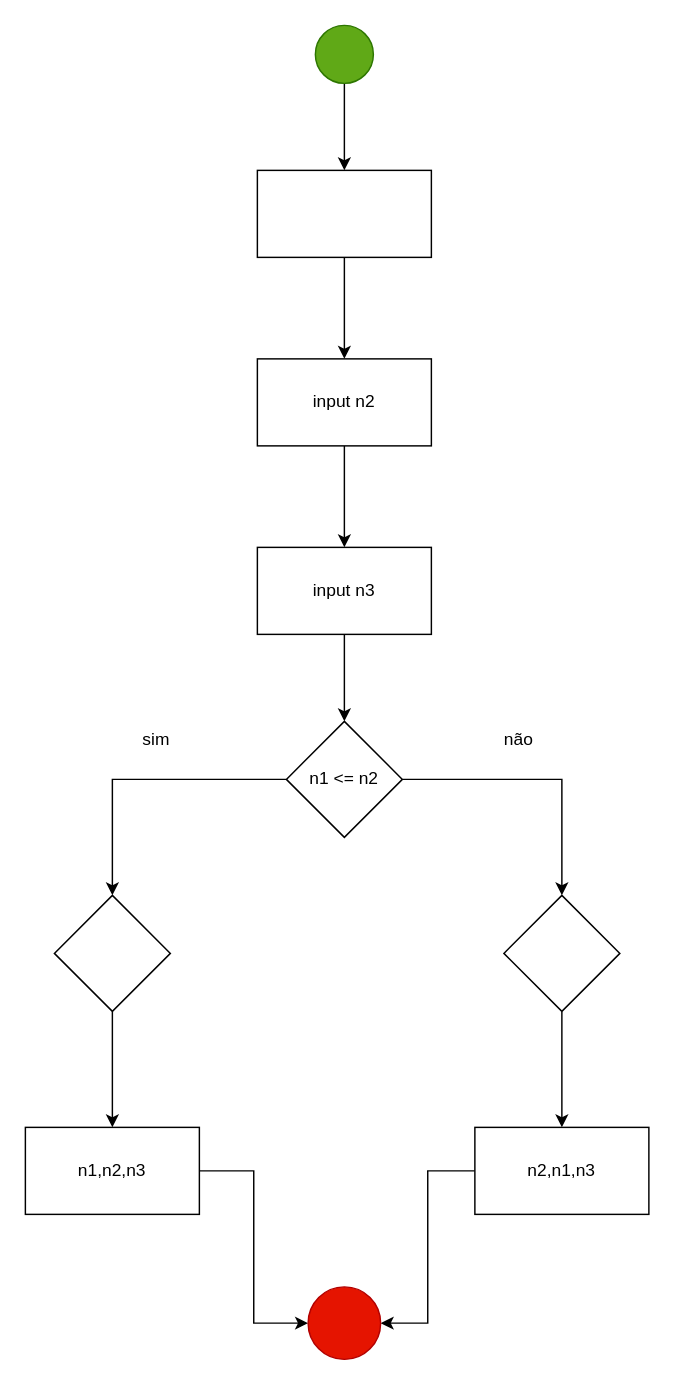
Some shapes in this 674 by 1385 pixel diagram are drawn without their labels. Here are the shapes that lost their labels. From the top down, the centre of each, then its label:
pixel 343 213: input n1
pixel 111 952: n2<= n3
pixel 561 952: n1 <= n3
